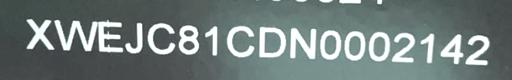letter: (52, 18, 98, 53), (288, 24, 318, 63), (24, 15, 56, 51), (226, 23, 256, 59), (257, 25, 287, 60), (463, 32, 493, 67), (146, 21, 176, 55), (95, 20, 125, 52), (437, 32, 465, 66), (390, 30, 416, 65), (176, 23, 202, 57), (318, 25, 342, 60), (366, 30, 392, 62), (342, 27, 366, 60), (418, 29, 438, 64), (124, 20, 144, 54), (204, 23, 220, 57)
